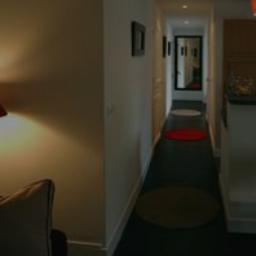Otro Obstaculo: (139, 187, 226, 237), (166, 121, 215, 148), (172, 108, 206, 121)
Puerta: (150, 33, 164, 142)
